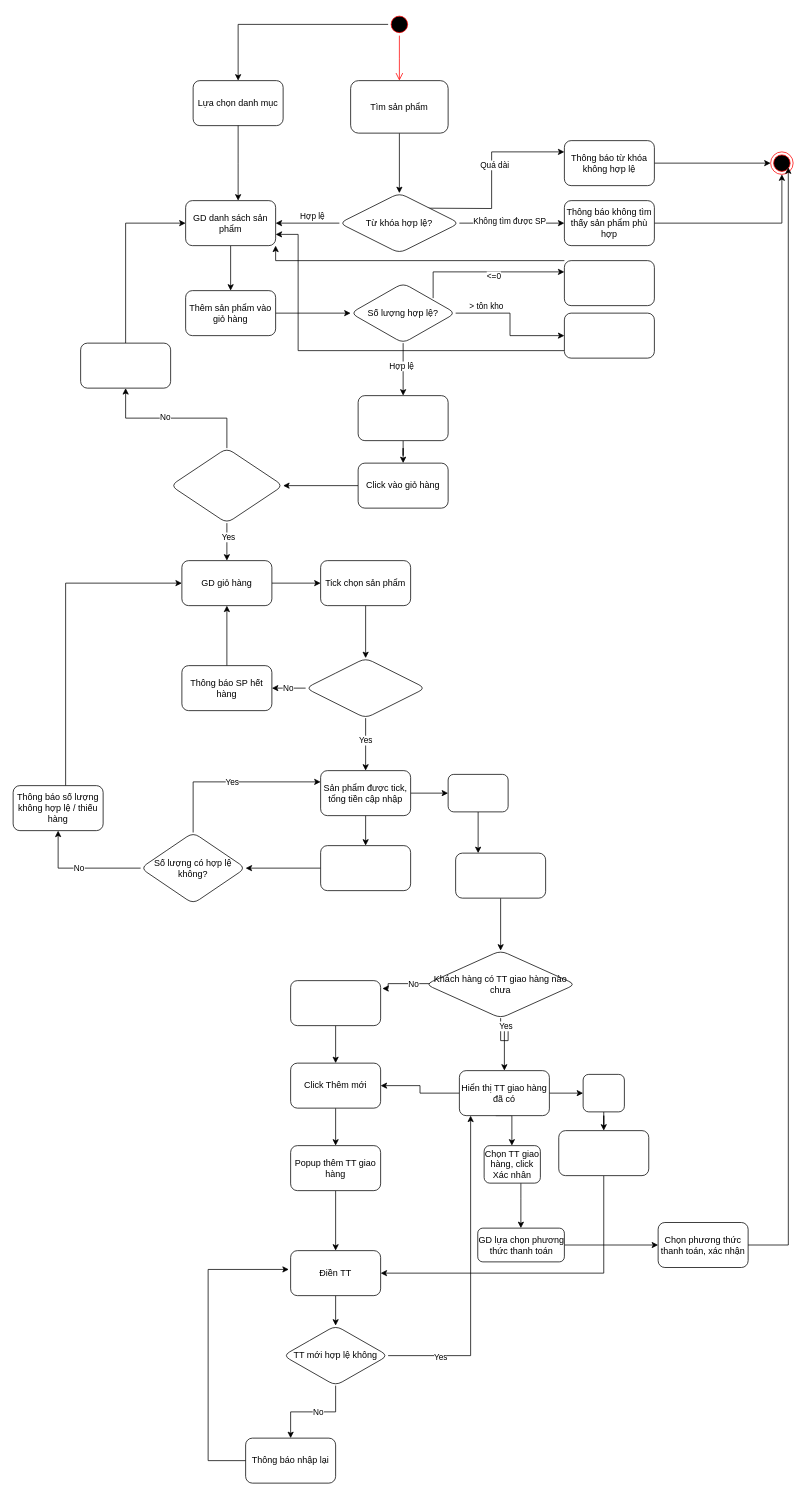
Image size: 808x1496. Some labels were removed from this diagram. Each missing label, with the centre of its shape:
Chỉ hiển thị nút "Thêm mới": point 335,1003
Click chỉnh sửa: point 603,1093
Click Mua: point 477,793
GD chọn TT giao hàng: point 500,875
Popup chỉnh sửa thông tin giao hàng: point 603,1153
Sản phẩm còn hàng?: point 365,687
Thay đổi số lượng: point 365,868
Thông báo giỏ hàng rỗng: point 125,365
Thông báo số lượng phải >0: point 609,283
Thông báo thêm vào giỏ hàng thành công: point 402,418
Thông báo vượt quá số lượng cho phép: point 609,335
Đã có SP nào trong giỏ chưa: point 226,485
